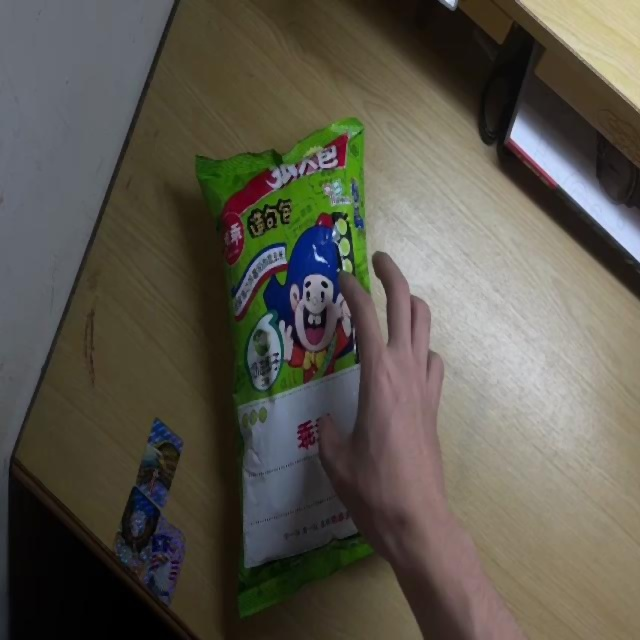Good-Luck: (195, 117, 407, 622)
